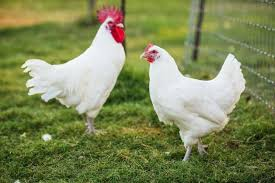Gà/Chicken: (13, 1, 142, 148), (134, 31, 250, 173)
